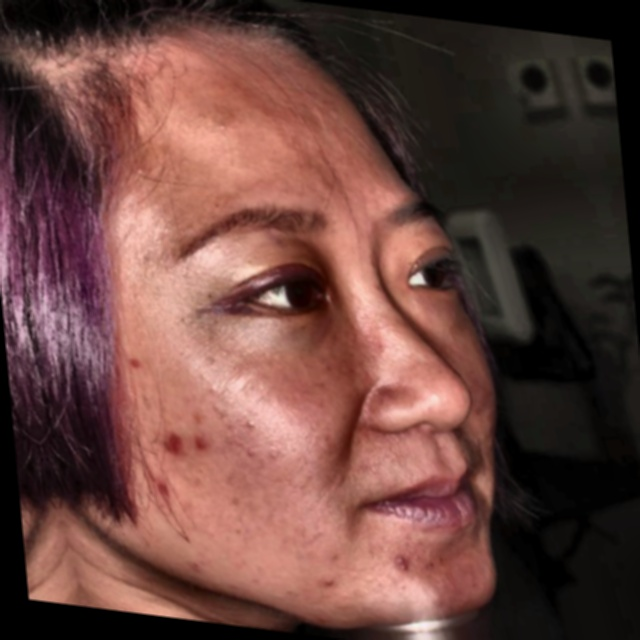comedone: (146, 420, 197, 467), (152, 467, 176, 501), (188, 427, 214, 456), (316, 566, 338, 595), (395, 550, 417, 573)
